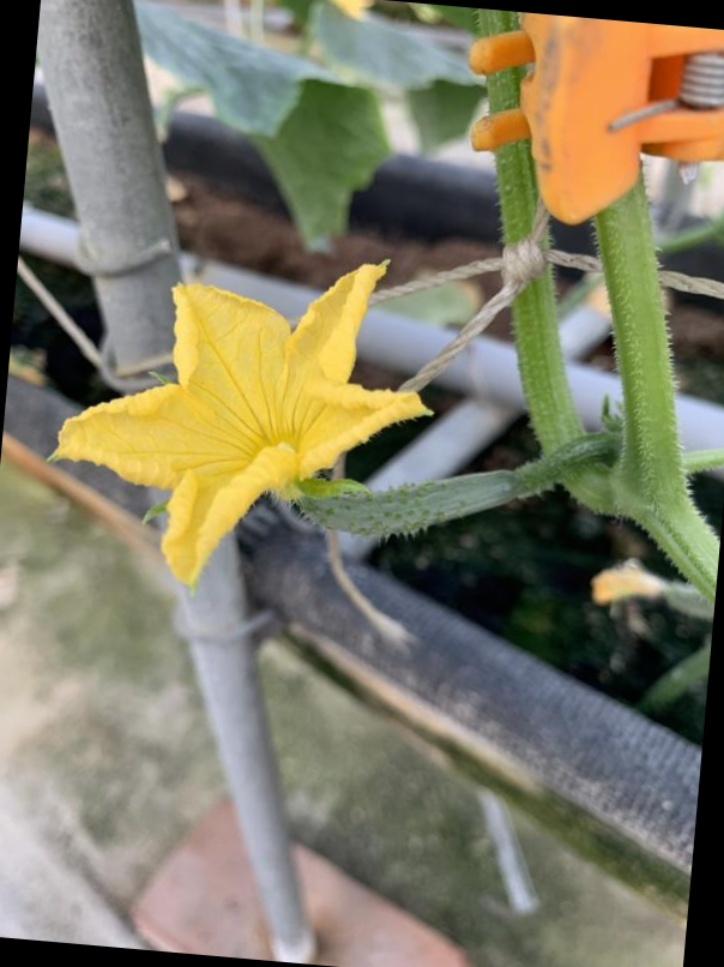flowering: (56, 257, 513, 579)
